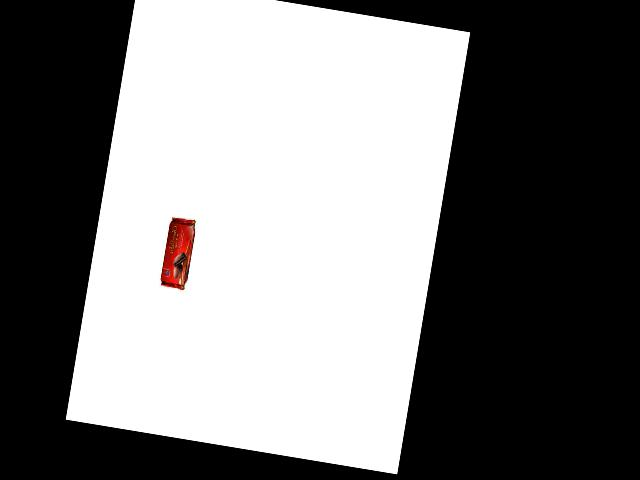chocolate: (158, 215, 203, 292)
